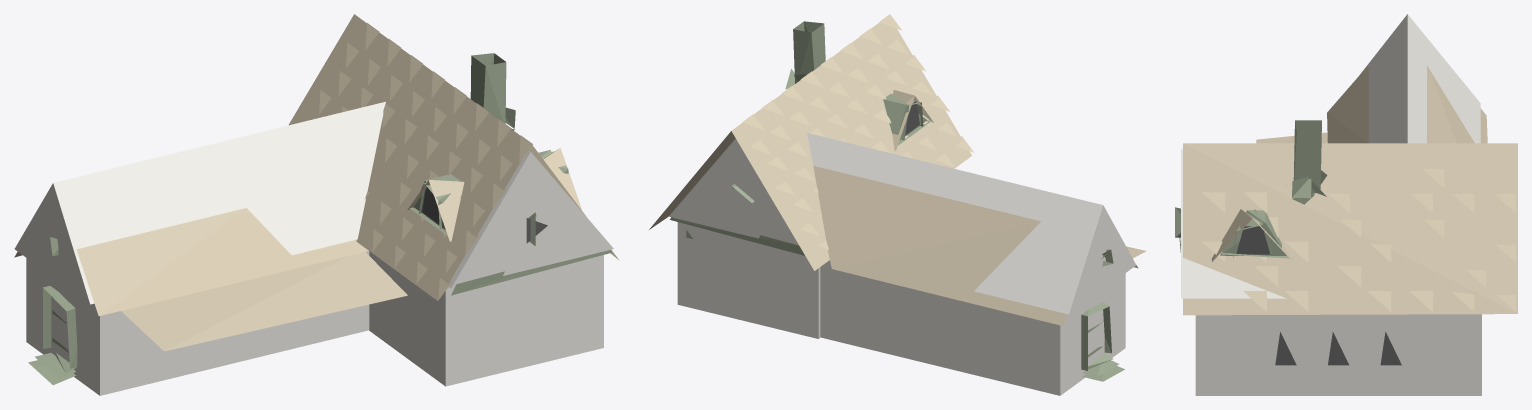
Rendered from barn-CDt64dIW.glb.
3 renders of one model, left to right at view 1: azimuth 30°, elevation 25°; view 2: azimuth 150°, elevation 25°; view 3: azimuth 270°, elevation 25°, orthographic. The views are drawn at different scales.
Visible parts, largest first — view 1: Stable_Cube.195; view 2: Stable_Cube.195; view 3: Stable_Cube.195.
Boxes of the visible parts, x1=… form: Stable_Cube.195: x1=14, y1=14, x2=619, y2=395; Stable_Cube.195: x1=649, y1=14, x2=1146, y2=395; Stable_Cube.195: x1=1175, y1=14, x2=1517, y2=395.
Size of the model in its own units: 4.53 by 2.41 by 3.05.
